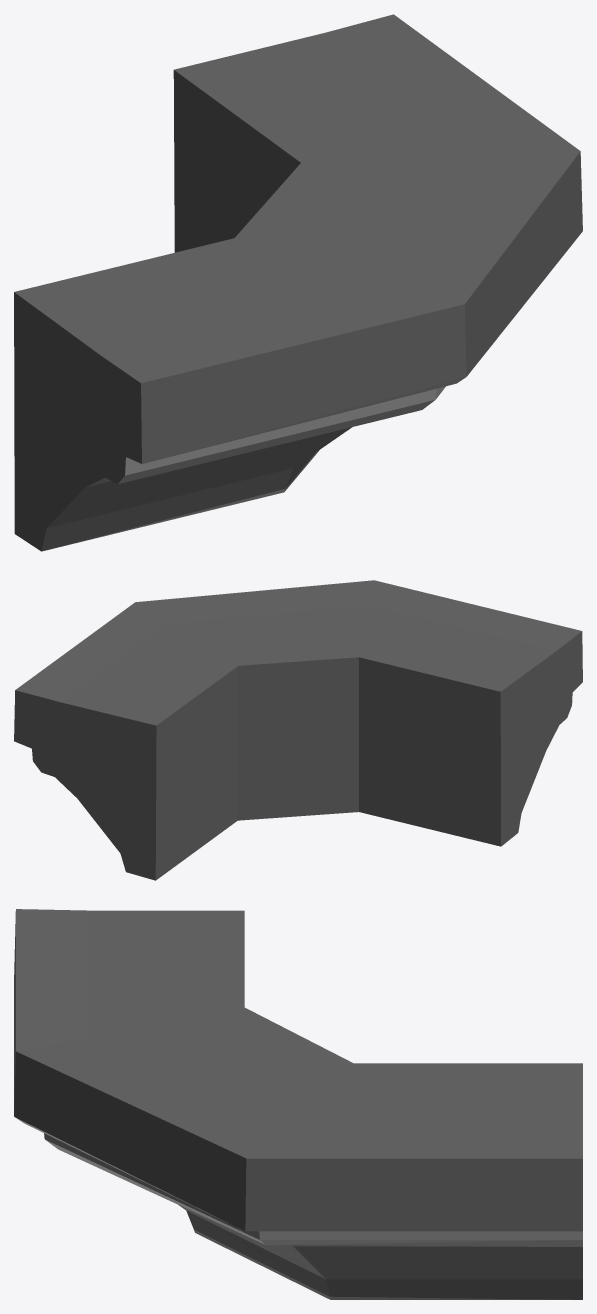
The model's file is MCastle_MasonryFixtures_01.FBX.
3 views of the same model, one above another, from view 1: azimuth 30°, elevation 25°; view 2: azimuth 150°, elevation 25°; view 3: azimuth 270°, elevation 25° (orthographic). The views are drawn at different scales.
Visible parts, largest first — view 1: MCastle_MasonryFixtures_01_LOD0; view 2: MCastle_MasonryFixtures_01_LOD0; view 3: MCastle_MasonryFixtures_01_LOD0.
Part boxes in pixels (<box>): MCastle_MasonryFixtures_01_LOD0: <box>14,14,582,551</box>; MCastle_MasonryFixtures_01_LOD0: <box>14,580,582,880</box>; MCastle_MasonryFixtures_01_LOD0: <box>14,909,582,1299</box>.
Size of what is drawn, in the model's own units: 4.98 by 2.03 by 4.79.
